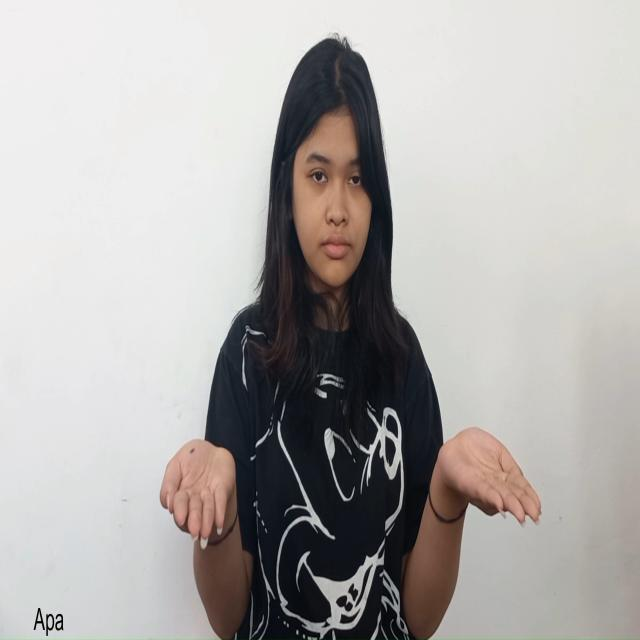Apa -BISINDO-: (158, 424, 544, 551)
